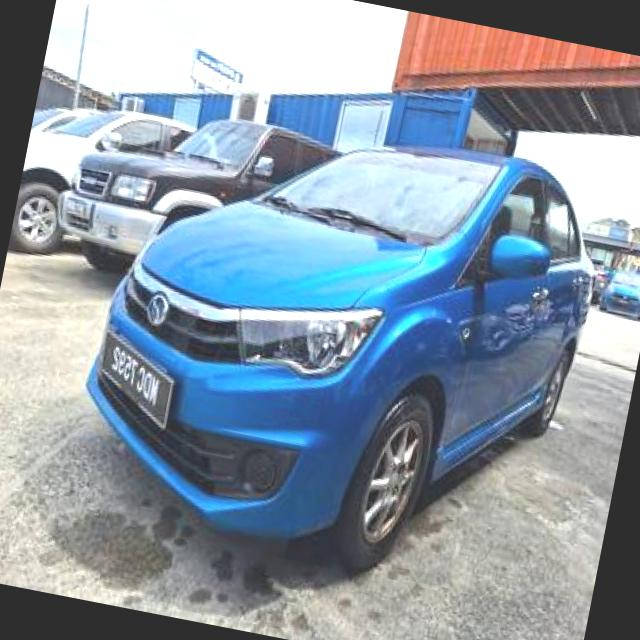PeroduaBezza: (59, 82, 617, 608)
